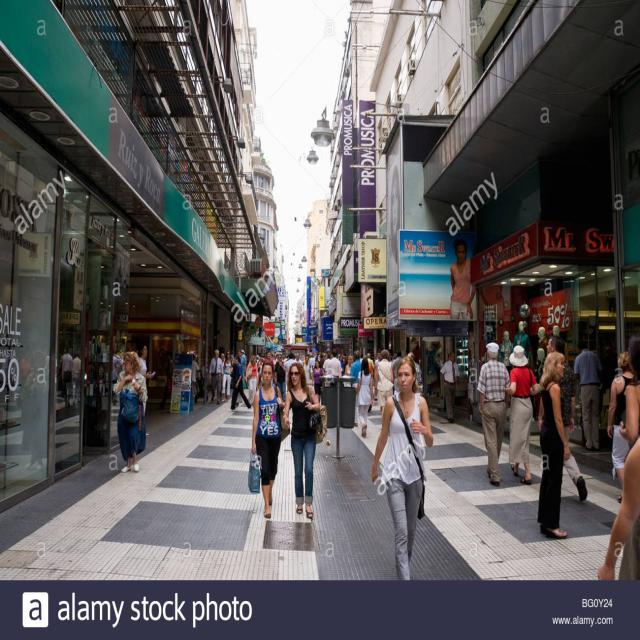body: (373, 354, 434, 581), (281, 360, 329, 519), (535, 350, 573, 541), (546, 334, 588, 503), (596, 436, 640, 583), (247, 357, 286, 520), (502, 342, 540, 486), (476, 339, 512, 489), (606, 350, 638, 504), (112, 349, 149, 474), (14, 345, 48, 474), (572, 337, 604, 452), (618, 332, 640, 445), (447, 236, 476, 321), (137, 343, 155, 437), (439, 349, 461, 424), (373, 348, 395, 422), (227, 355, 253, 413), (356, 357, 374, 437), (59, 347, 82, 409), (465, 320, 476, 422), (208, 348, 224, 405), (244, 354, 260, 407), (406, 350, 424, 397), (310, 359, 326, 407), (512, 320, 531, 359), (282, 352, 298, 398), (220, 349, 233, 402), (274, 354, 287, 404), (391, 348, 404, 393), (322, 350, 334, 398), (533, 325, 546, 369), (349, 350, 363, 388), (499, 330, 513, 366), (250, 350, 295, 361), (326, 349, 343, 378), (366, 352, 376, 399), (301, 354, 313, 389), (192, 353, 200, 398), (344, 354, 354, 387), (257, 356, 265, 392), (262, 350, 276, 368), (240, 348, 247, 378), (253, 354, 260, 383), (374, 352, 383, 368), (338, 355, 344, 378), (294, 351, 303, 366), (312, 351, 327, 360), (550, 324, 561, 334), (235, 347, 242, 355), (270, 351, 276, 360), (391, 353, 397, 362), (220, 352, 225, 362), (337, 352, 347, 356), (309, 351, 314, 359)
